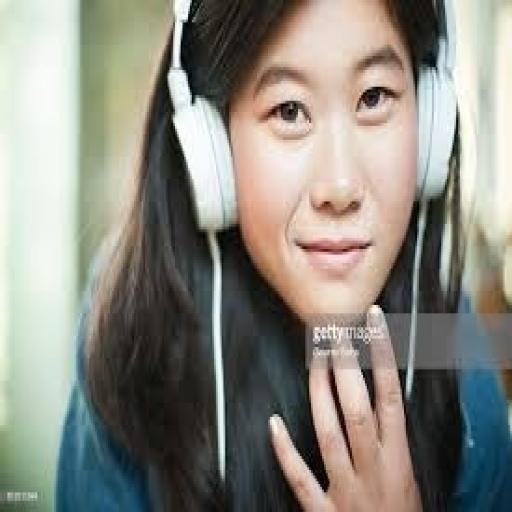listening_to_music: (52, 0, 510, 509)
